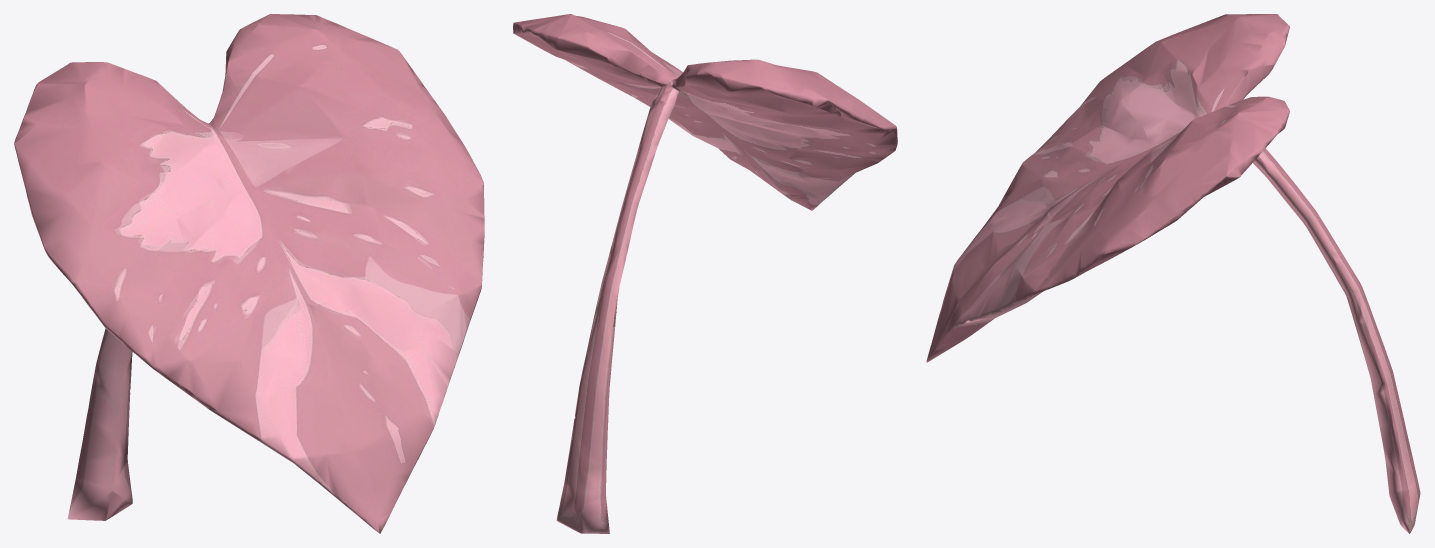
Rendered from pp_leaf_young_allpink.glb.
3 renders of one model, left to right at view 1: azimuth 30°, elevation 25°; view 2: azimuth 150°, elevation 25°; view 3: azimuth 270°, elevation 25°, orthographic. The views are drawn at different scales.
Bounding box in the file's own units: 1.57 × 1.9 × 1.85.
Materials: 1 (1 with a texture image).
